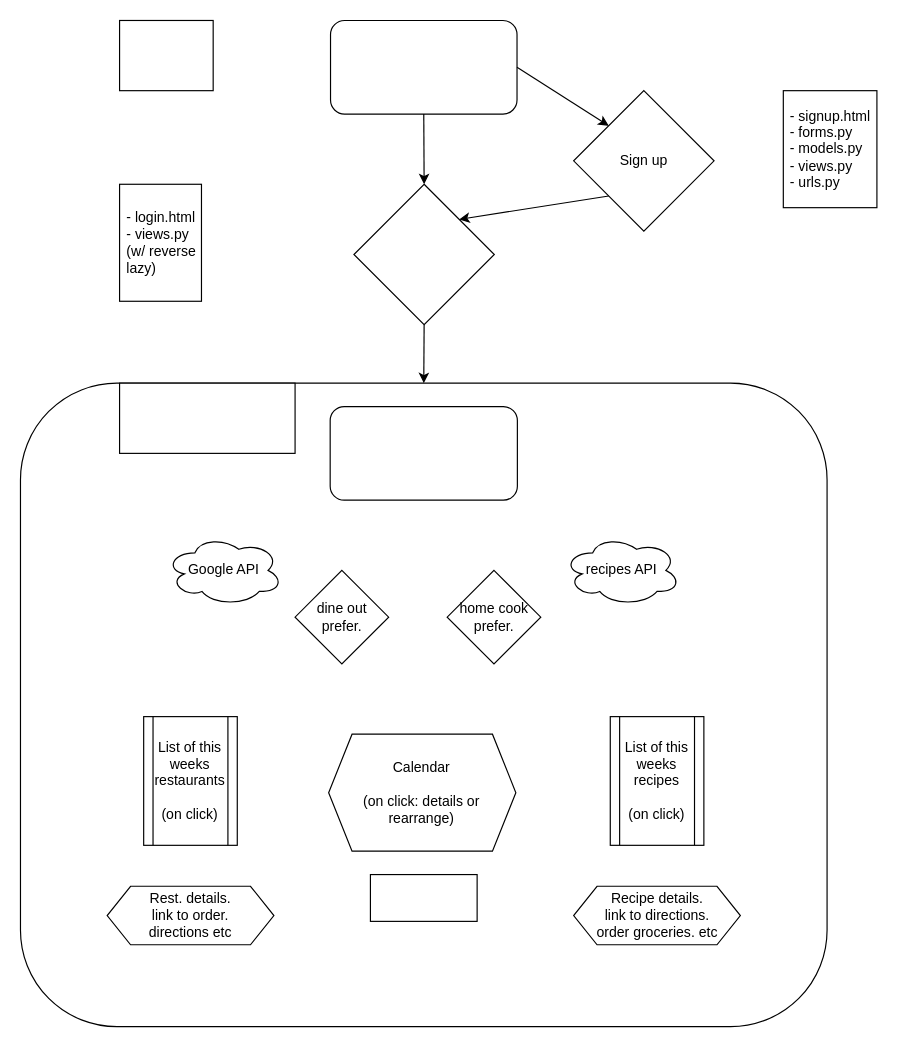
This 897x1047 diagram has some shape labels left out. Here are the shapes that lost their labels. From the top down, the centre of each, then its label:
the point at 165,55: - home.html - urls.py
the point at 423,66: Landing Page
the point at 423,254: Login
the point at 206,417: - dashboard.html - urls.py
the point at 423,452: Dashboard (user specific)
the point at 423,897: - Javascript - Patron API
